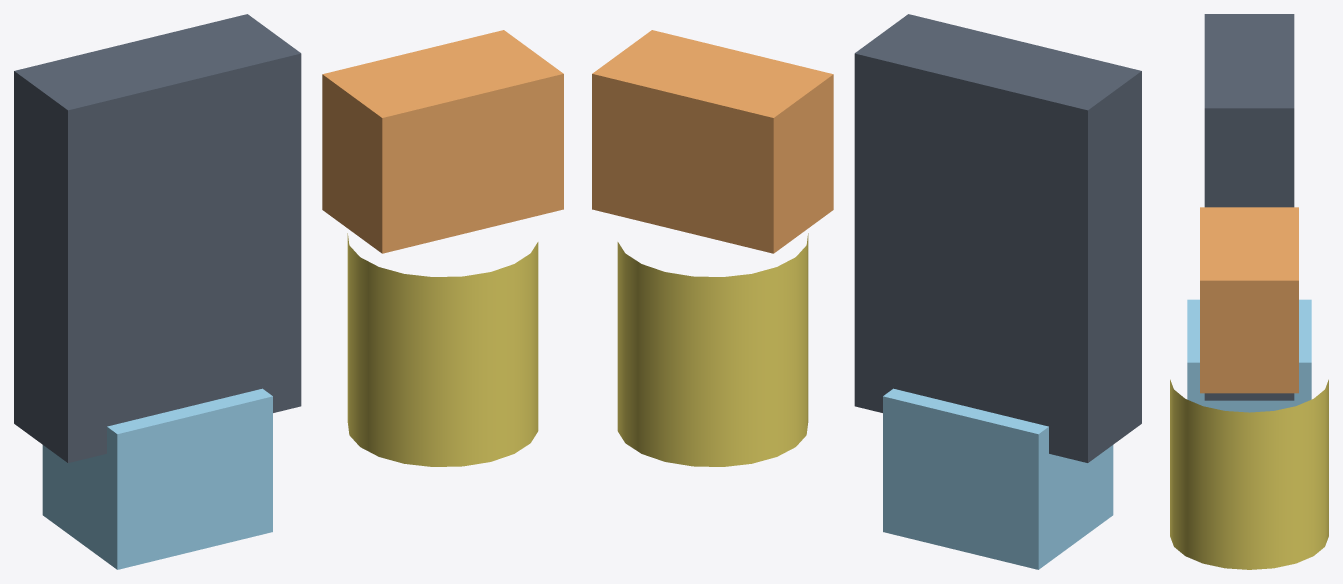
The model's file is scr_two_transistor_commutation.glb.
The picture shows the model from 3 angles, left to right: view 1: azimuth 30°, elevation 25°; view 2: azimuth 150°, elevation 25°; view 3: azimuth 270°, elevation 25°; orthographic projection. The views are drawn at different scales.
Visible parts, largest first — view 1: TO247HighPowerSCRPackage, RCSnubberCapacitorResistor, CommutatingLCResonantChoke, GateTriggerPulseTransformer; view 2: TO247HighPowerSCRPackage, RCSnubberCapacitorResistor, CommutatingLCResonantChoke, GateTriggerPulseTransformer; view 3: CommutatingLCResonantChoke, RCSnubberCapacitorResistor, TO247HighPowerSCRPackage, GateTriggerPulseTransformer.
Boxes of the visible parts, box(x1,y1,x2,y2) form: TO247HighPowerSCRPackage: box(14, 14, 301, 462); RCSnubberCapacitorResistor: box(322, 30, 563, 253); CommutatingLCResonantChoke: box(347, 233, 538, 466); GateTriggerPulseTransformer: box(42, 388, 272, 569); TO247HighPowerSCRPackage: box(854, 14, 1141, 462); RCSnubberCapacitorResistor: box(592, 30, 833, 253); CommutatingLCResonantChoke: box(617, 233, 808, 466); GateTriggerPulseTransformer: box(883, 388, 1113, 569); CommutatingLCResonantChoke: box(1170, 379, 1328, 569); RCSnubberCapacitorResistor: box(1200, 207, 1298, 393); TO247HighPowerSCRPackage: box(1204, 14, 1294, 400); GateTriggerPulseTransformer: box(1187, 299, 1311, 412).
Bounding box in the file's own units: 0.95 × 0.85 × 0.32.
